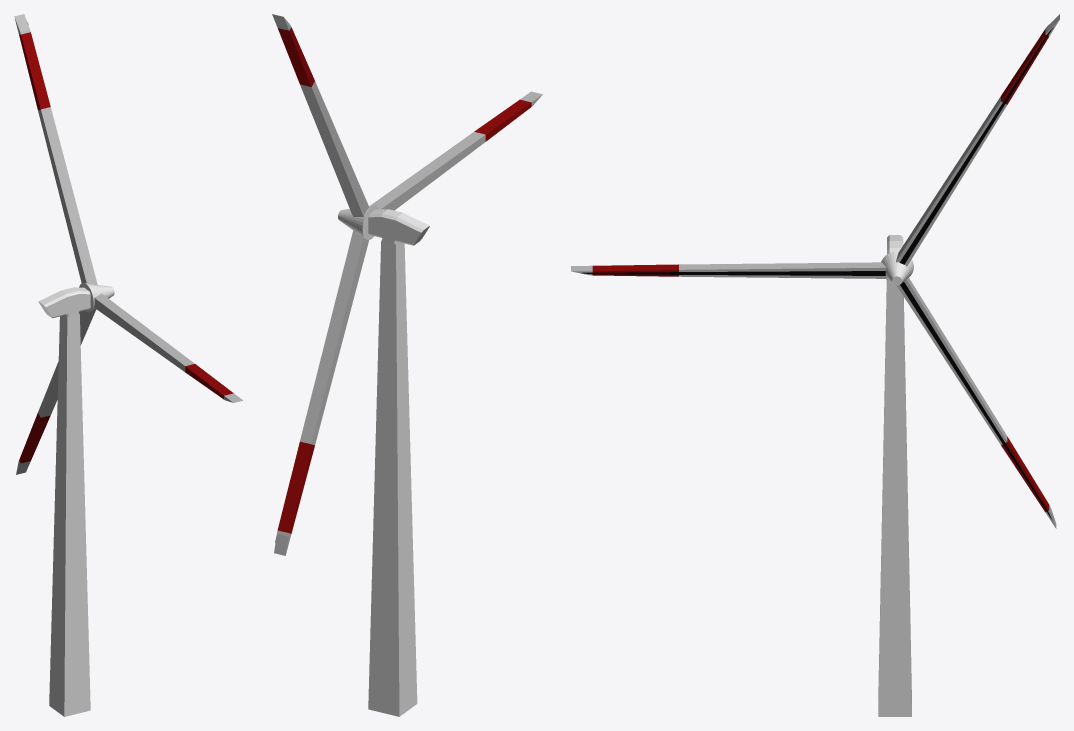
The model's file is windfarm.glb.
3 views of the same model, side by side, from view 1: azimuth 30°, elevation 25°; view 2: azimuth 150°, elevation 25°; view 3: azimuth 270°, elevation 25° (orthographic). The views are drawn at different scales.
Visible parts, largest first — view 1: Cube, Cube.001; view 2: Cube, Cube.001; view 3: Cube.001, Cube.
Boxes of the visible parts, x1,y1,x2,y2 form: Cube: [38, 287, 90, 716]; Cube.001: [14, 14, 242, 474]; Cube: [368, 209, 429, 716]; Cube.001: [272, 14, 542, 555]; Cube.001: [571, 14, 1059, 528]; Cube: [878, 235, 911, 716].
Size of the model in its own units: 8.92 by 74.98 by 47.08.
